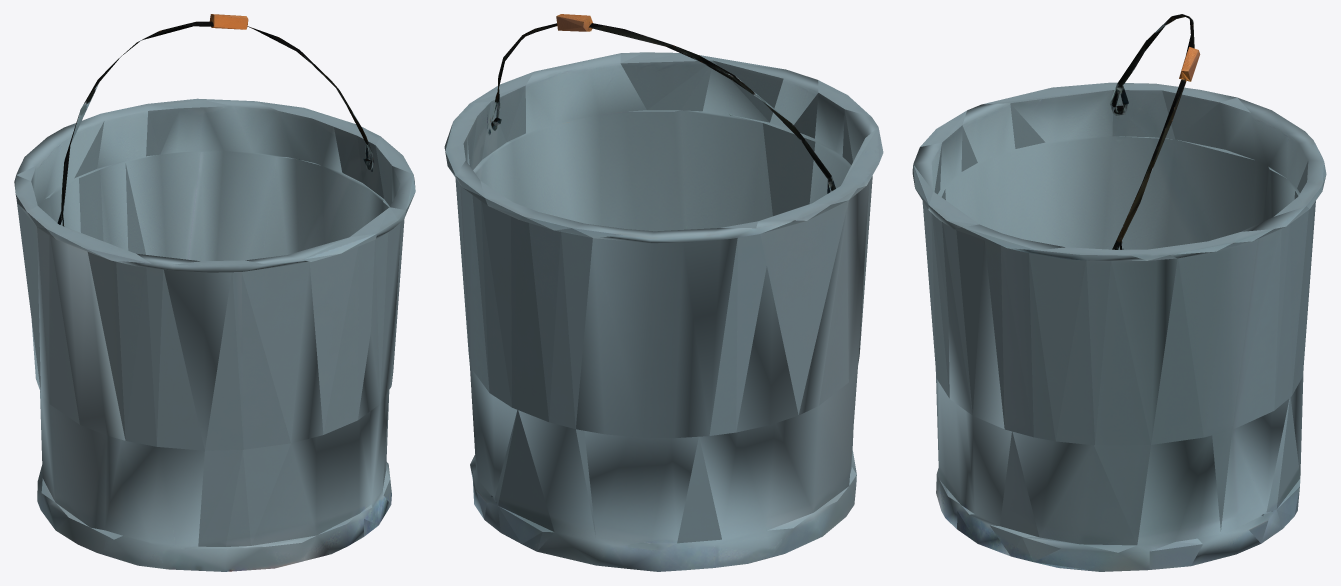
File: IT_CleaningBucket.fbx
The picture shows the model from 3 angles, left to right: view 1: azimuth 30°, elevation 25°; view 2: azimuth 150°, elevation 25°; view 3: azimuth 270°, elevation 25°; orthographic projection. The views are drawn at different scales.
Visible parts, largest first — view 1: Mesh_0; view 2: Mesh_0; view 3: Mesh_0.
Part boxes in pixels (<box>): Mesh_0: <box>14,14,415,571</box>; Mesh_0: <box>444,14,883,571</box>; Mesh_0: <box>912,14,1326,571</box>.
Bounding box in the file's own units: 152 × 190 × 153.
Materials: 1 (1 with a texture image).
